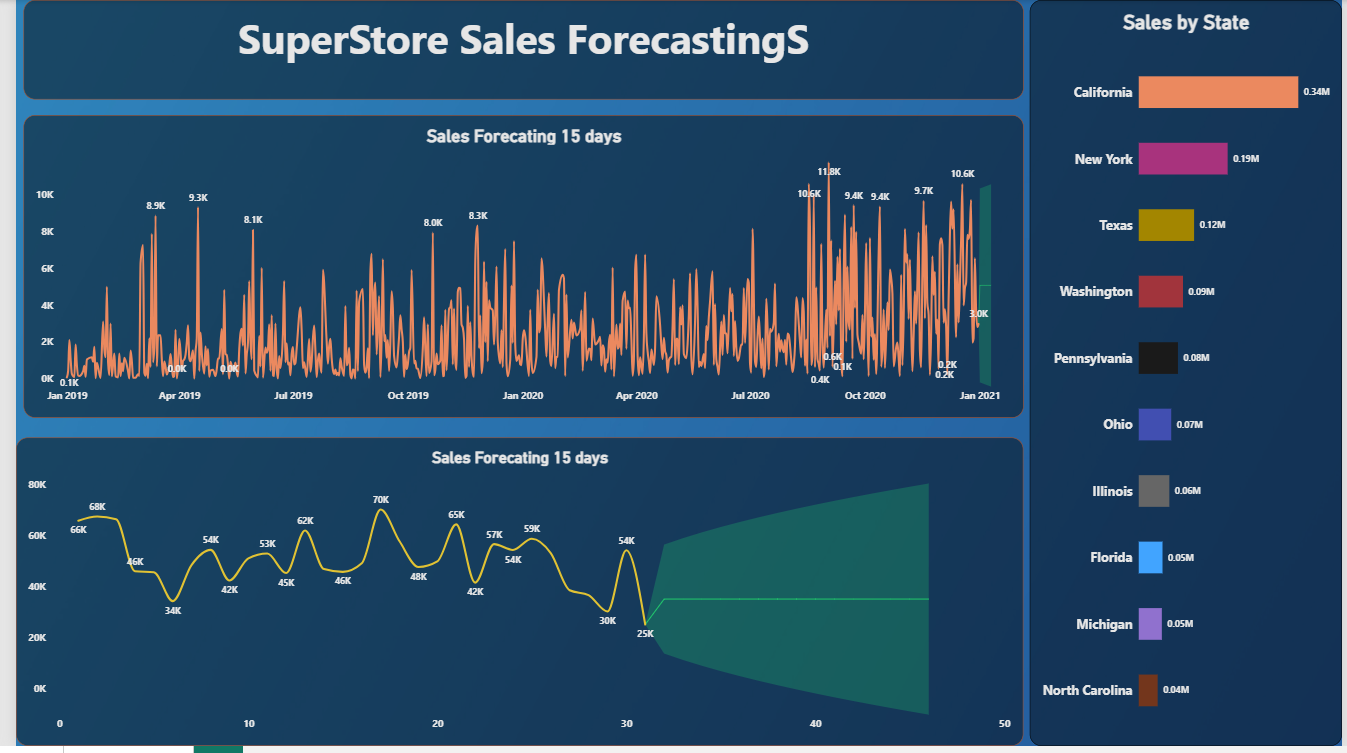

The page's visual inventory and layout, read from the dashboard file:
{"tool":"powerbi","page":{"name":"Forecasting","canvas":[1920,1080],"ordinal":1},"visuals":[{"type":"lineChart","title":"Sales Forecating 15 days","fields":{"Category":["Sheet1.Order Date"],"Y":["Sum(Sheet1.Sales)"]},"box":[10,166,1448,438],"z":0},{"type":"lineChart","title":"Sales Forecating 15 days","fields":{"Category":["SalesForecast.Order Date.Variation.Date Hierarchy.Day"],"Y":["Sum(SalesForecast.Total)"]},"box":[0,634,1458,446],"z":1000},{"type":"clusteredBarChart","title":"Sales by State","fields":{"Category":["Sheet1.State"],"Y":["Sum(Sheet1.Sales)"]},"box":[1468,0,452,1080],"z":2000},{"type":"textbox","box":[10,0,1448,144],"z":2001}]}

Visuals, with their boxes in screenshot pixels (x1, y1, x2, y2), scaled from the page's 1920x1080 canvas onto the 1347x753 screenshot:
"Sales Forecating 15 days" lineChart: pyautogui.locateOnScreen(7, 116, 1023, 421)
"Sales Forecating 15 days" lineChart: pyautogui.locateOnScreen(0, 442, 1023, 752)
"Sales by State" clusteredBarChart: pyautogui.locateOnScreen(1030, 0, 1346, 752)
textbox: pyautogui.locateOnScreen(7, 0, 1023, 100)
